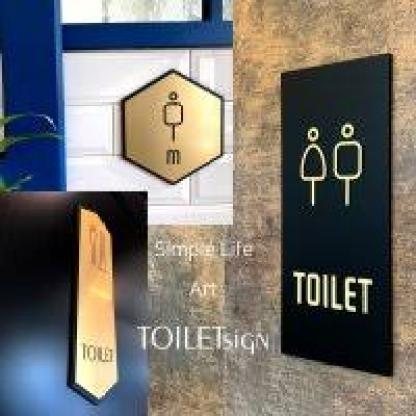toilet: (297, 118, 367, 212)
